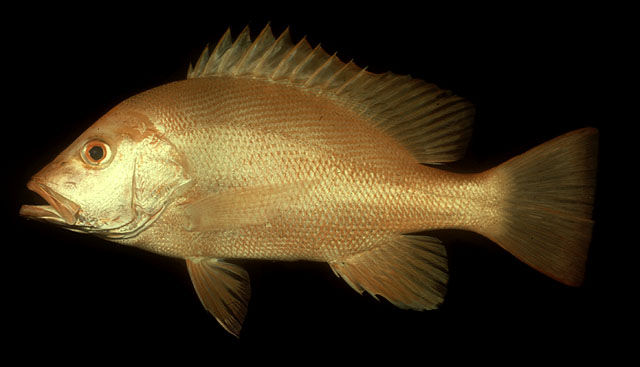fish: (20, 25, 593, 339)
